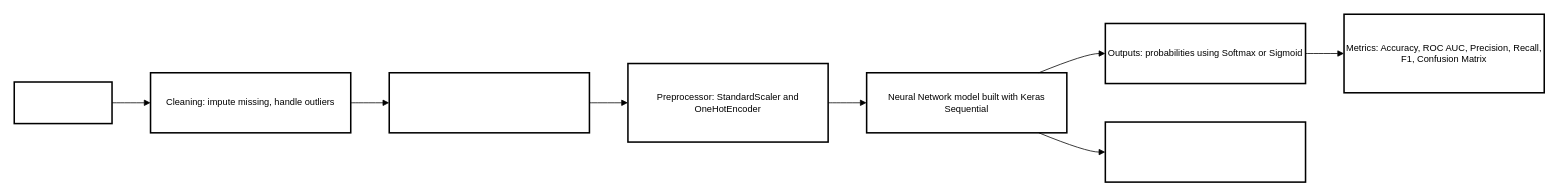
Image size: 1558x196. Some labels were removed from this diagram. The shapes that lost their labels are listed below. From the top down, each one's box as (x1, y1, x2, y2) in pixels, then its label:
(13, 81, 112, 124): Raw data
(388, 72, 590, 133): Feature engineering: scaling, embeddings, bins
(1104, 121, 1306, 182): Artifacts: saved model H5 or ONNX, TensorBoard logs
